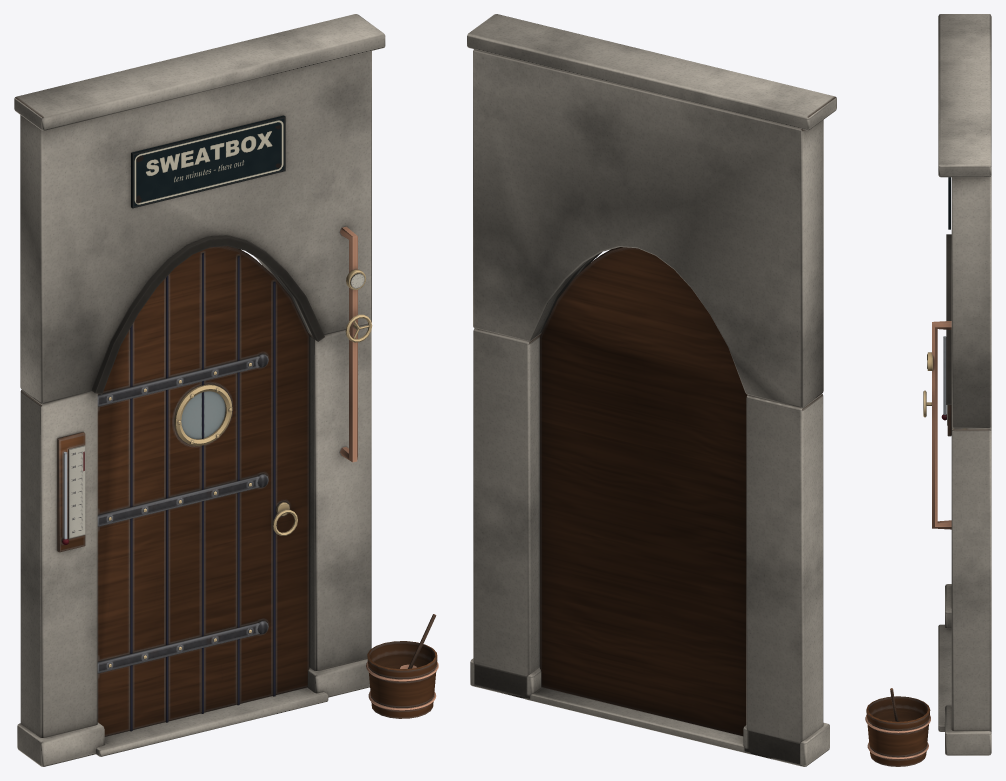
Rendered from SaunaDoor.fbx.
3 renders of one model, left to right at view 1: azimuth 30°, elevation 25°; view 2: azimuth 150°, elevation 25°; view 3: azimuth 270°, elevation 25°, orthographic. The views are drawn at different scales.
Visible parts, largest first — view 1: SaunaDoor_Main, SaunaDoor_Door0; view 2: SaunaDoor_Main, SaunaDoor_Door0; view 3: SaunaDoor_Main.
Boxes of the visible parts, left/top/right/bottom form: SaunaDoor_Main: left=14, top=14, right=438, bottom=766; SaunaDoor_Door0: left=97, top=246, right=309, bottom=736; SaunaDoor_Main: left=467, top=14, right=836, bottom=766; SaunaDoor_Door0: left=540, top=247, right=747, bottom=735; SaunaDoor_Main: left=865, top=14, right=991, bottom=766.
Bounding box in the file's own units: 579 × 981 × 189.
